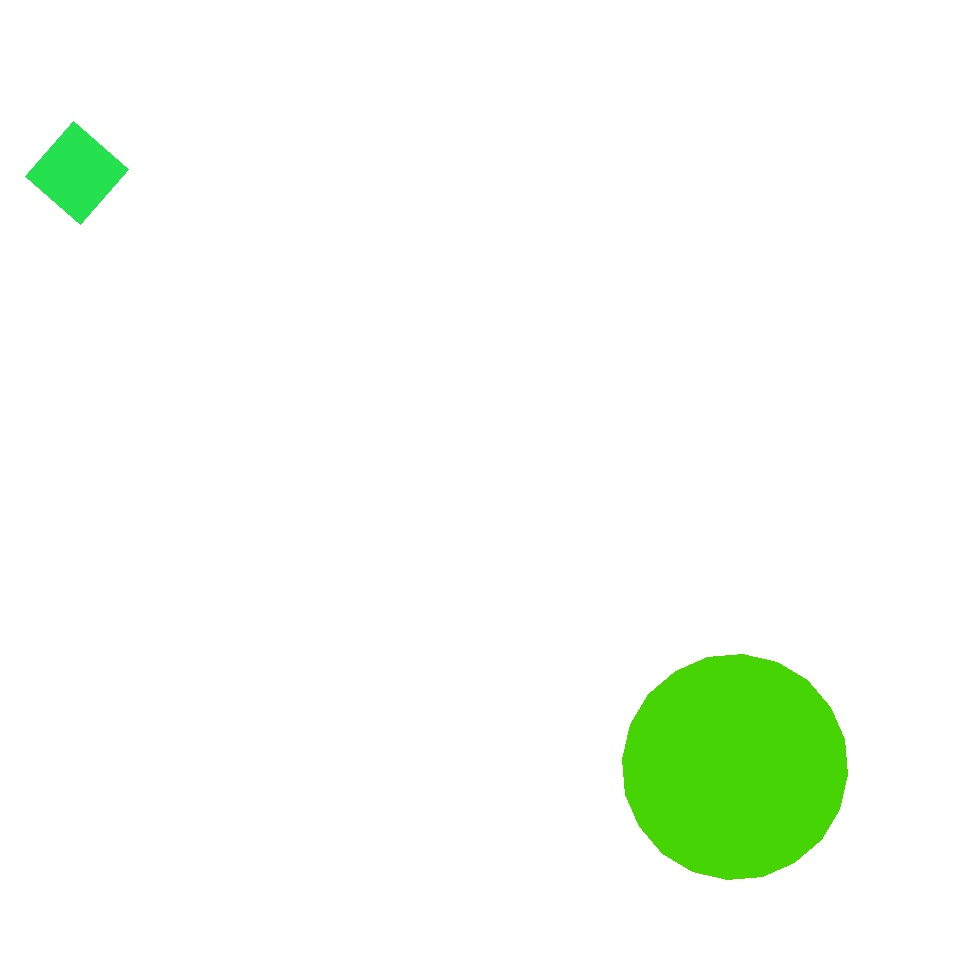circle: (234, 55, 499, 289), (680, 210, 930, 456)
square: (538, 482, 850, 792), (26, 122, 128, 224)
triangle: (6, 9, 380, 384), (622, 654, 848, 880), (748, 15, 952, 218)
